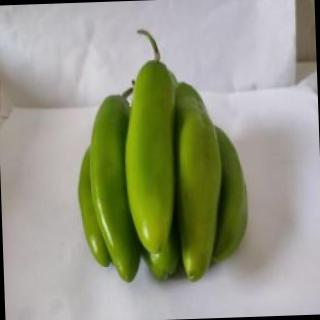Cabai Hijau: (118, 25, 184, 261)
